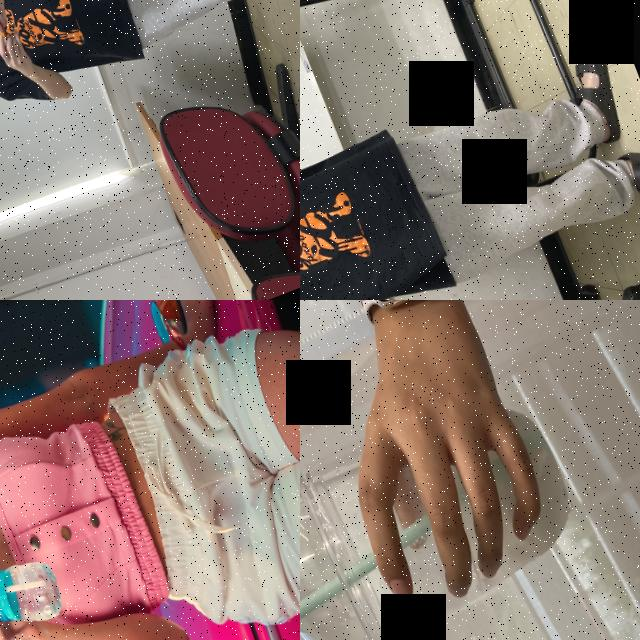bottle: (0, 536, 68, 640)
cup: (300, 380, 605, 640)
